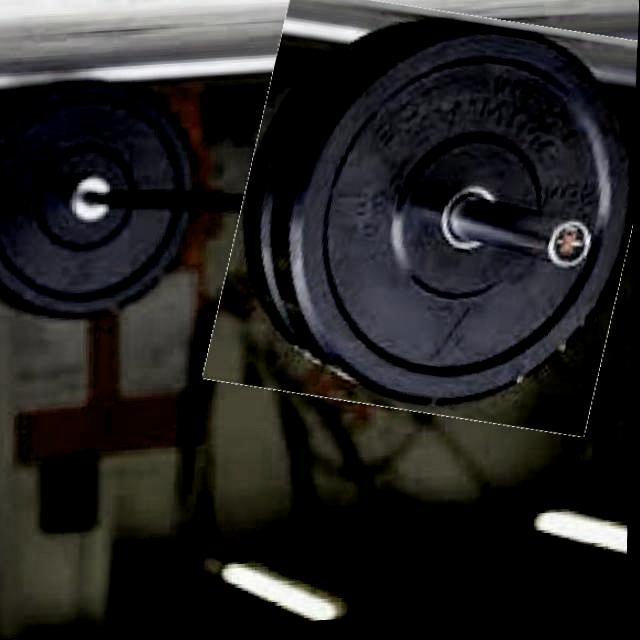barbell: (222, 1, 640, 444)
